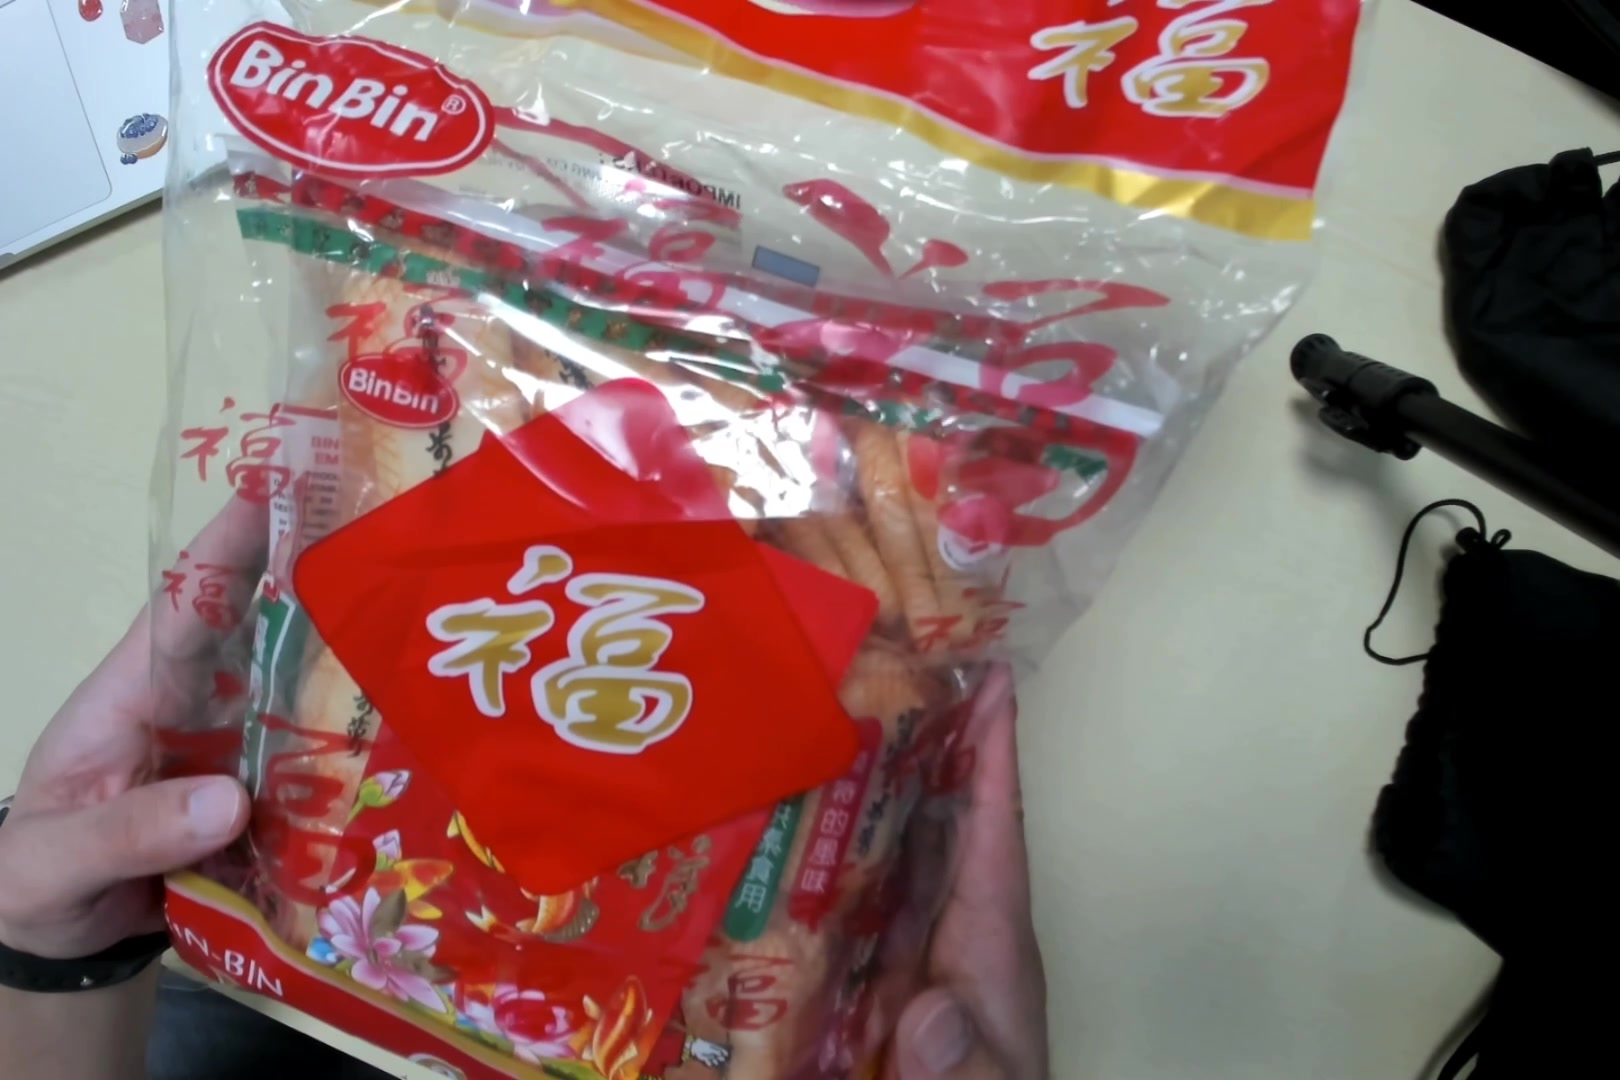PotatoChipsKeropok_300-399g_NonHalal_NonHealthy: (168, 5, 1364, 1080)
